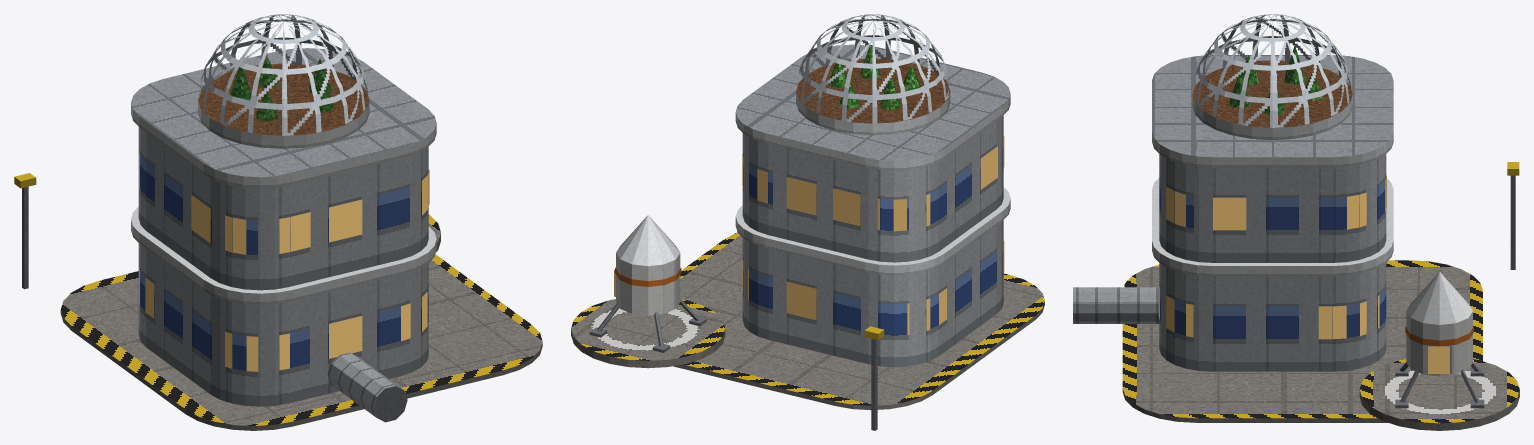
File: mars_1_inhab_byty_b.glb
3 renders of one model, left to right at view 1: azimuth 30°, elevation 25°; view 2: azimuth 150°, elevation 25°; view 3: azimuth 270°, elevation 25°, orthographic. The views are drawn at different scales.
Parts seen in each view (by area): view 1: inhab_byty_b, noc; view 2: inhab_byty_b, noc; view 3: inhab_byty_b, noc.
Boxes of the visible parts, x1,y1,x2,y2 form: inhab_byty_b: (14, 14, 542, 430); noc: (139, 153, 429, 371); inhab_byty_b: (571, 14, 1044, 430); noc: (614, 136, 1004, 335); inhab_byty_b: (1073, 14, 1519, 430); noc: (1158, 175, 1450, 373).
Size of the model in its own units: 12.1 by 10.14 by 13.38.
Materials: 1 (1 with a texture image).
